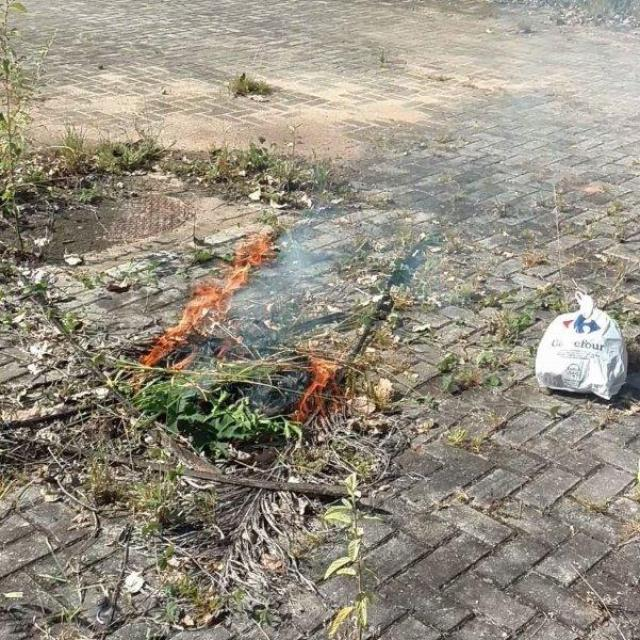fire: (297, 360, 342, 420), (180, 282, 228, 314)
